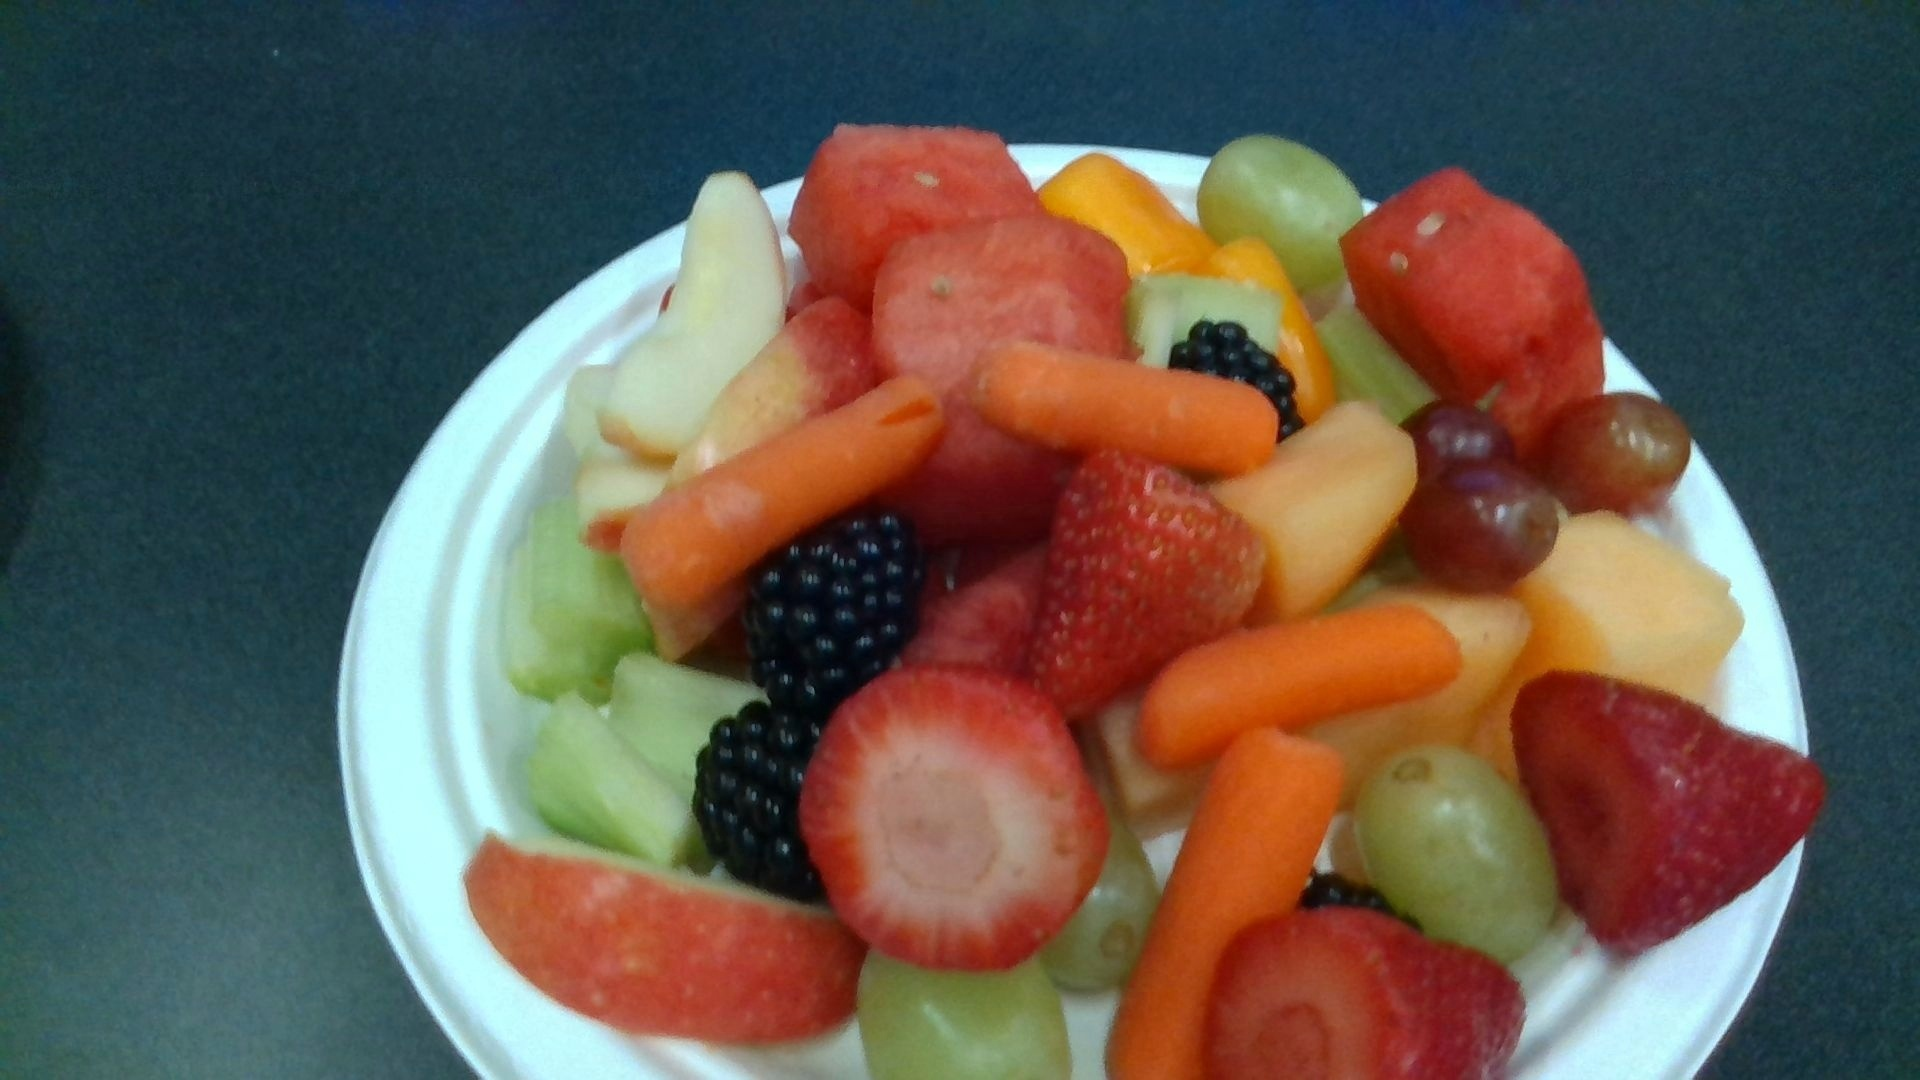apple: (462, 831, 869, 1043), (603, 175, 785, 458), (665, 298, 882, 498)
blackberry: (749, 510, 922, 708)
cantalope: (1507, 516, 1745, 765), (1212, 401, 1414, 618)
carrot: (1109, 731, 1341, 1080), (622, 380, 942, 597), (1137, 611, 1458, 767), (977, 338, 1279, 469)
grape_green: (1352, 746, 1549, 961), (857, 945, 1073, 1080), (1199, 136, 1360, 290)
grape_purple: (1402, 463, 1557, 589), (1552, 396, 1691, 516)
melon: (874, 222, 1130, 538), (1338, 166, 1607, 421), (789, 127, 1048, 301)
strawberry: (799, 671, 1102, 973), (1513, 673, 1822, 951), (1034, 448, 1265, 717), (1209, 910, 1524, 1080)
